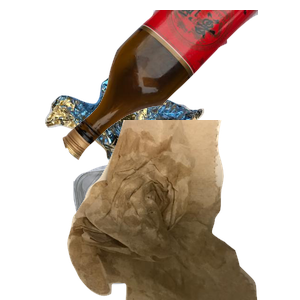glass: (60, 10, 300, 163)
metal: (42, 72, 239, 229)
plastic: (71, 154, 300, 300)
trash: (65, 120, 300, 300)
